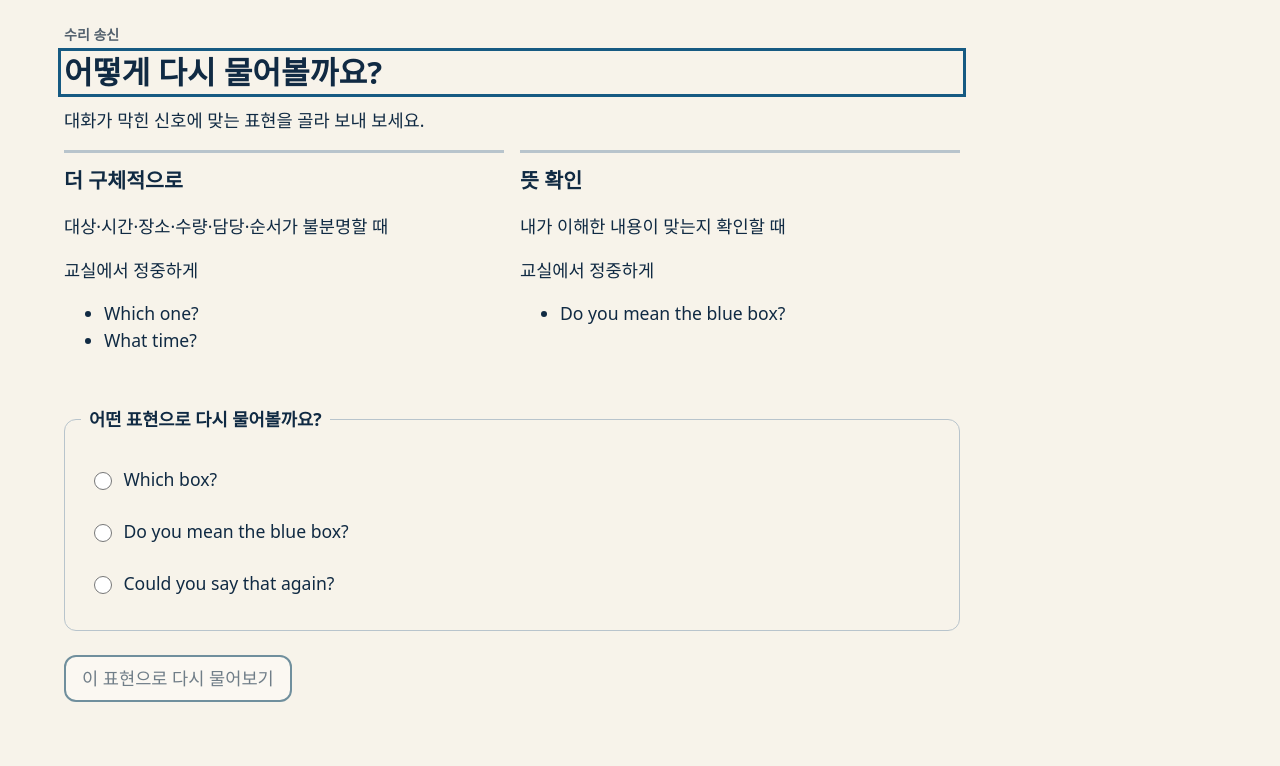
Test: RepairTransmission › requires selection, then accepts both natural expressions with distinct feedback
(page scrolled)
Expected: the button "이 표현으로 다시 물어보기" is disabled, top-left (64, 655), bottom-right (292, 702)
Click the radio button labelled "Which box?": (103, 481) top-left (94, 472), bottom-right (112, 490)
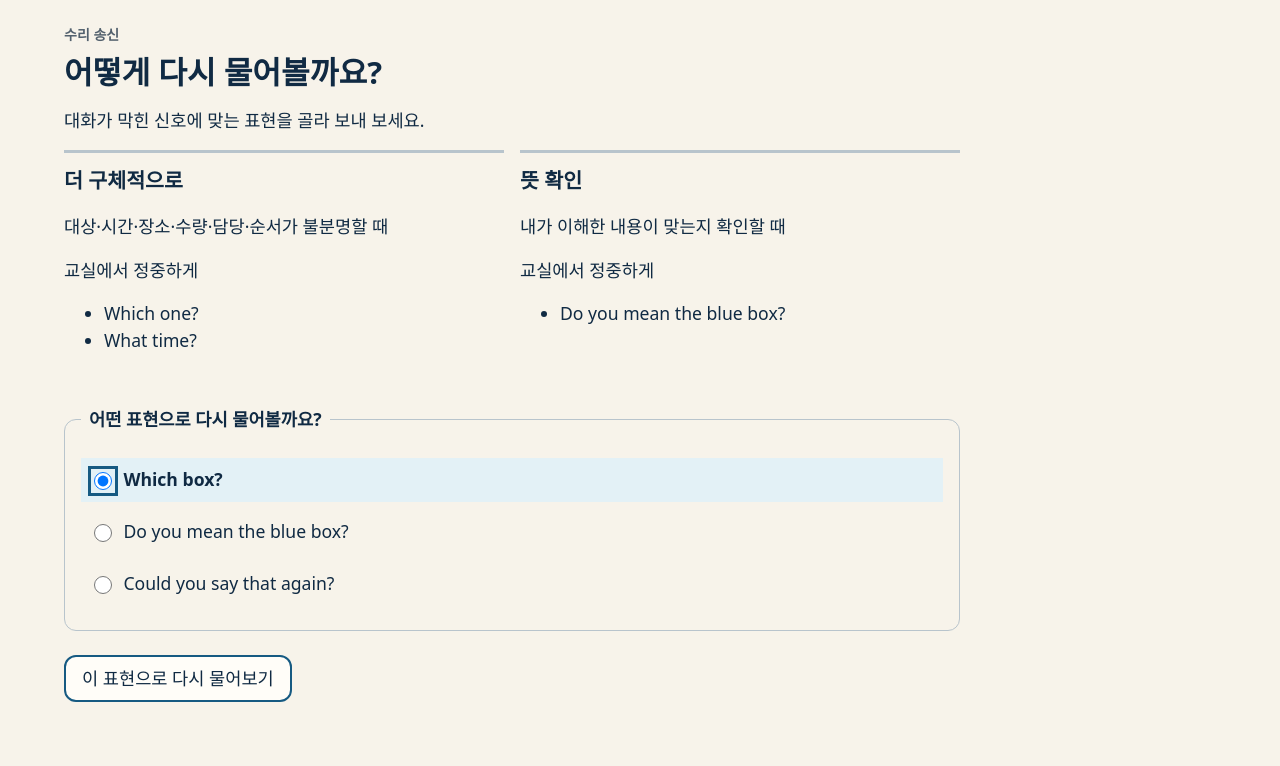
Expected: the button "이 표현으로 다시 물어보기" is enabled
Click the button "이 표현으로 다시 물어보기": (178, 678) top-left (64, 655), bottom-right (292, 702)
(page scrolled)
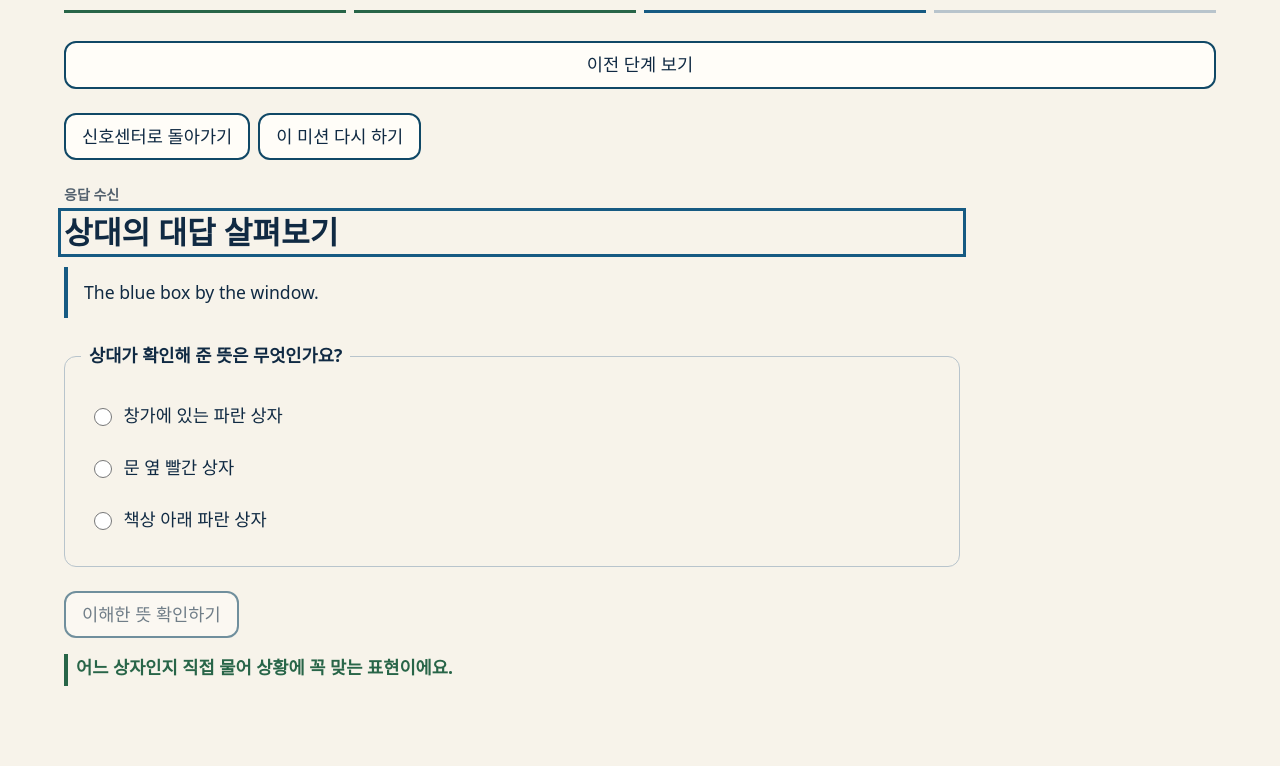
Expected: the message reads "어느 상자인지 직접 물어 상황에 꼭 맞는 표현이에요.", top-left (76, 655), bottom-right (453, 679)
Expected: the heading "상대의 대답 살펴보기" is shown, top-left (64, 211), bottom-right (338, 253)
